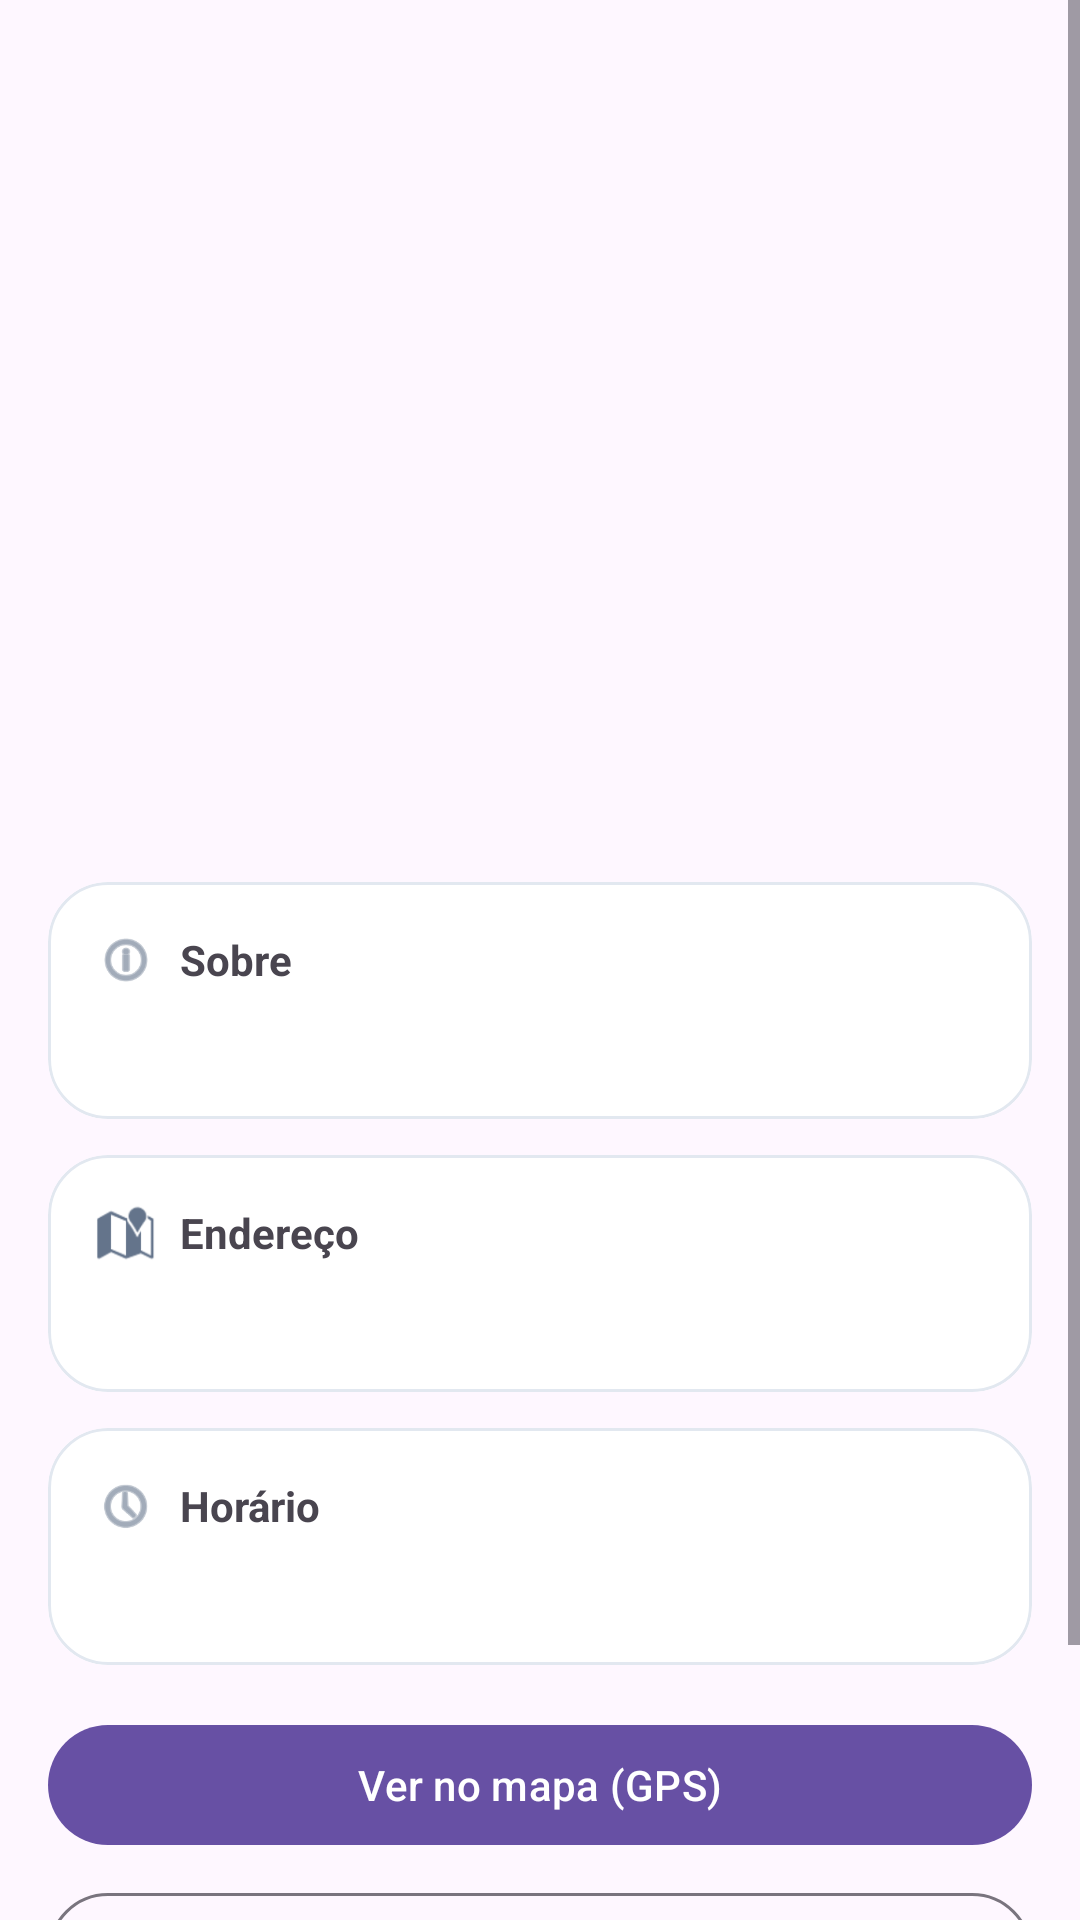

Locate icon controls on the screen. Image size 1080×1920, boxes as box(x1, y1, x2, y2).
info details: box(104, 939, 148, 981)
map: box(97, 1207, 154, 1259)
recent history: box(104, 1485, 147, 1528)
